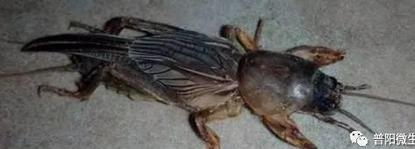pest: (28, 11, 361, 140)
